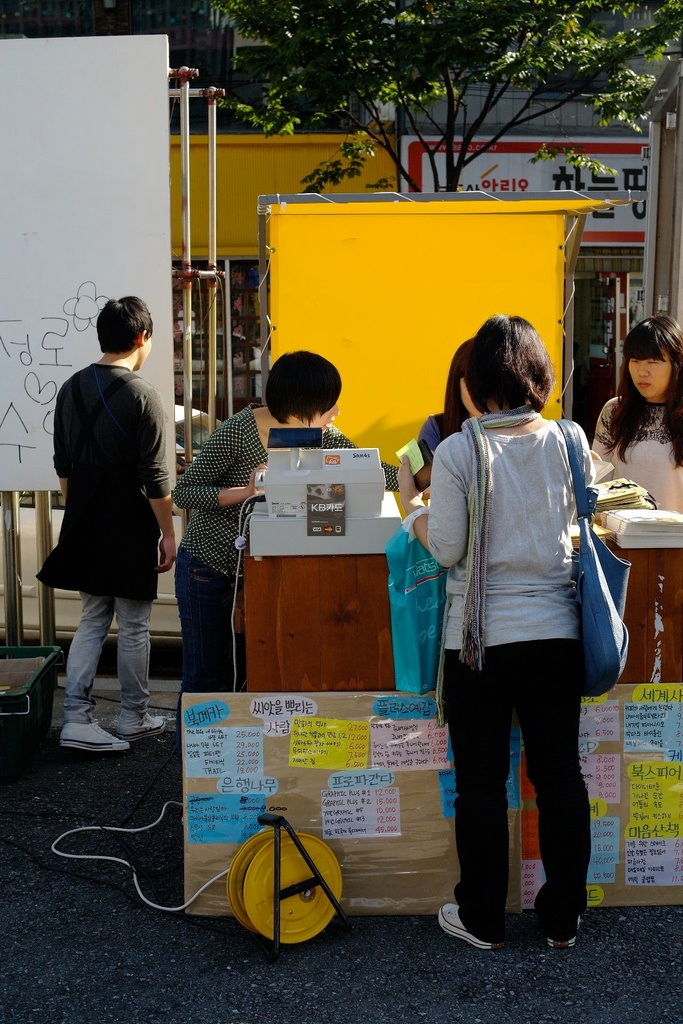Human-face: (630, 339, 678, 397), (301, 407, 340, 430), (136, 337, 156, 376)
